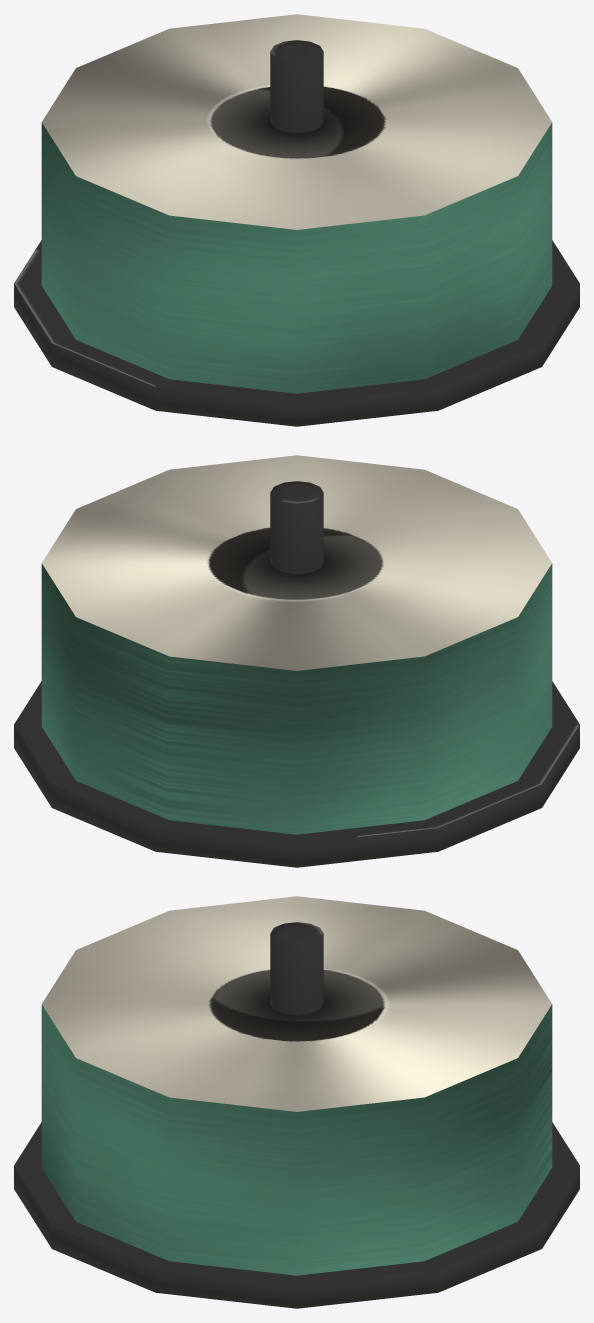
The model's file is puck-spcl-cdspindle.glb.
The picture shows the model from 3 angles, top to bottom: view 1: azimuth 30°, elevation 25°; view 2: azimuth 150°, elevation 25°; view 3: azimuth 270°, elevation 25°; orthographic projection.
Visible parts, largest first — view 1: spindle; view 2: spindle; view 3: spindle.
Part boxes in pixels (left/top/right/bottom): spindle: left=14, top=14, right=579, bottom=426; spindle: left=14, top=455, right=579, bottom=867; spindle: left=14, top=896, right=579, bottom=1308.
Bounding box in the file's own units: 0.9833 × 0.4904 × 0.9833.
Materials: 1 (1 with a texture image).
